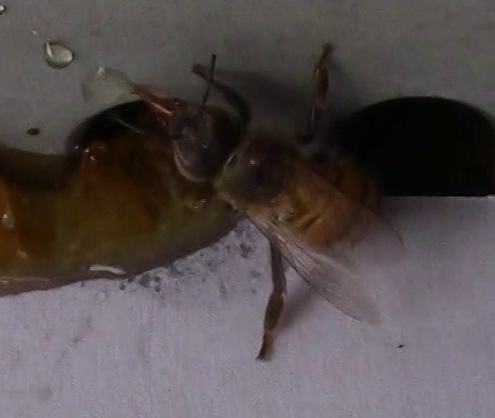Varroa destructor: (241, 136, 278, 169)
